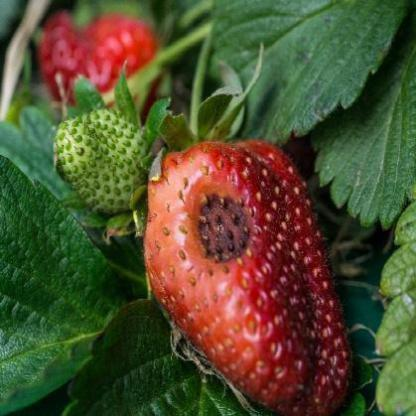Strawberry_Anthracnose_Fruit_Rot: (186, 192, 259, 270)
